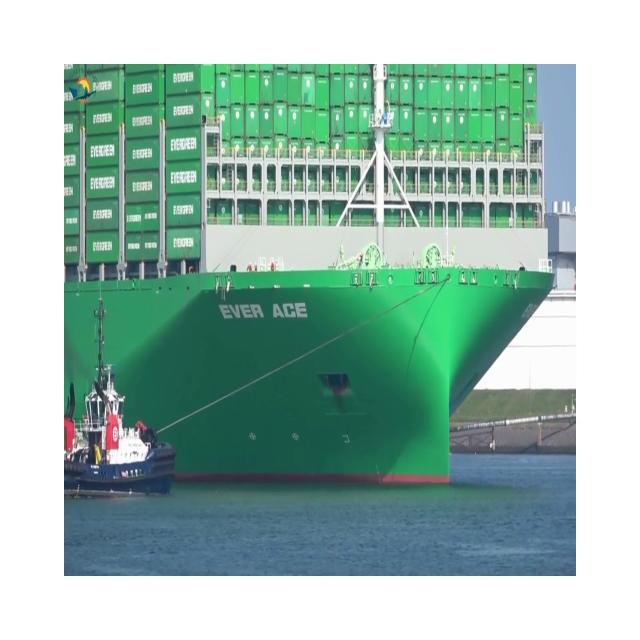OCR: (214, 292, 312, 330)
